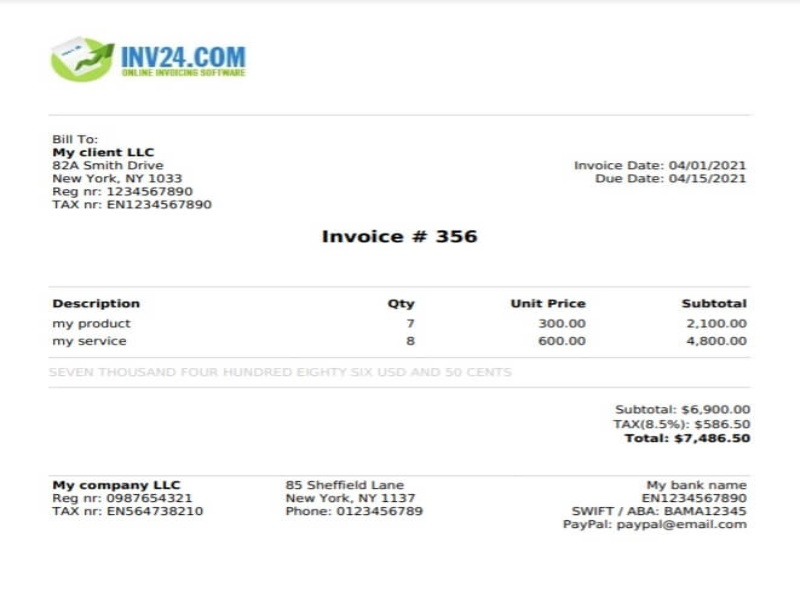invoice_detail: (50, 132, 213, 211)
table: (47, 289, 751, 357)
total: (619, 431, 754, 446)
